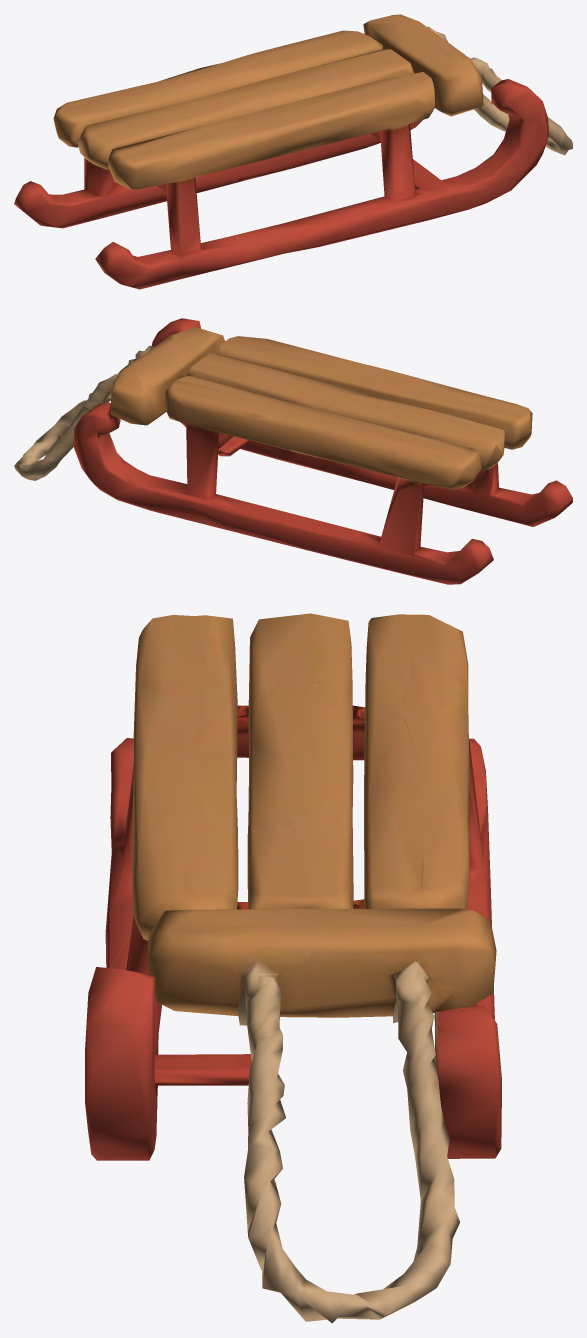
The model's file is toy-sled.glb.
3 views of the same model, one above another, from view 1: azimuth 30°, elevation 25°; view 2: azimuth 150°, elevation 25°; view 3: azimuth 270°, elevation 25° (orthographic). The views are drawn at different scales.
Visible parts, largest first — view 1: tripo_node_a2bdc0f5-61c9-42d8-bff1-c8232b718bc2; view 2: tripo_node_a2bdc0f5-61c9-42d8-bff1-c8232b718bc2; view 3: tripo_node_a2bdc0f5-61c9-42d8-bff1-c8232b718bc2.
Part boxes in pixels (x1,y1,x2,y2): tripo_node_a2bdc0f5-61c9-42d8-bff1-c8232b718bc2: (14, 14, 572, 289); tripo_node_a2bdc0f5-61c9-42d8-bff1-c8232b718bc2: (14, 318, 572, 584); tripo_node_a2bdc0f5-61c9-42d8-bff1-c8232b718bc2: (85, 613, 501, 1323).
Bounding box in the file's own units: 1 × 0.2655 × 0.3641.
Materials: 1 (1 with a texture image).
